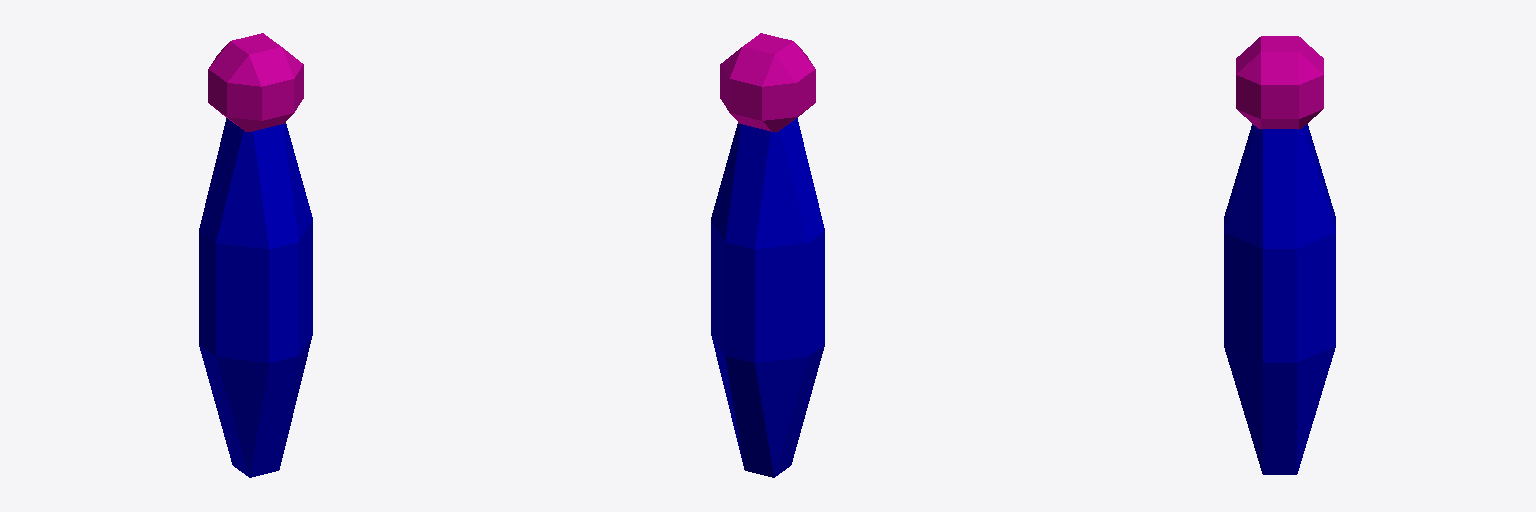
The model's file is why.obj.
3 renders of one model, left to right at view 1: azimuth 30°, elevation 25°; view 2: azimuth 150°, elevation 25°; view 3: azimuth 270°, elevation 25°, orthographic.
Parts seen in each view (by area): view 1: Cube, Куб; view 2: Cube, Куб; view 3: Cube, Куб.
Boxes of the visible parts, <box> form: Cube: <box>199,118,312,477</box>; Куб: <box>208,33,303,131</box>; Cube: <box>711,118,824,477</box>; Куб: <box>720,33,815,131</box>; Cube: <box>1224,124,1335,474</box>; Куб: <box>1236,36,1323,129</box>.
Bounding box in the file's own units: 2.55 × 10.64 × 2.55.